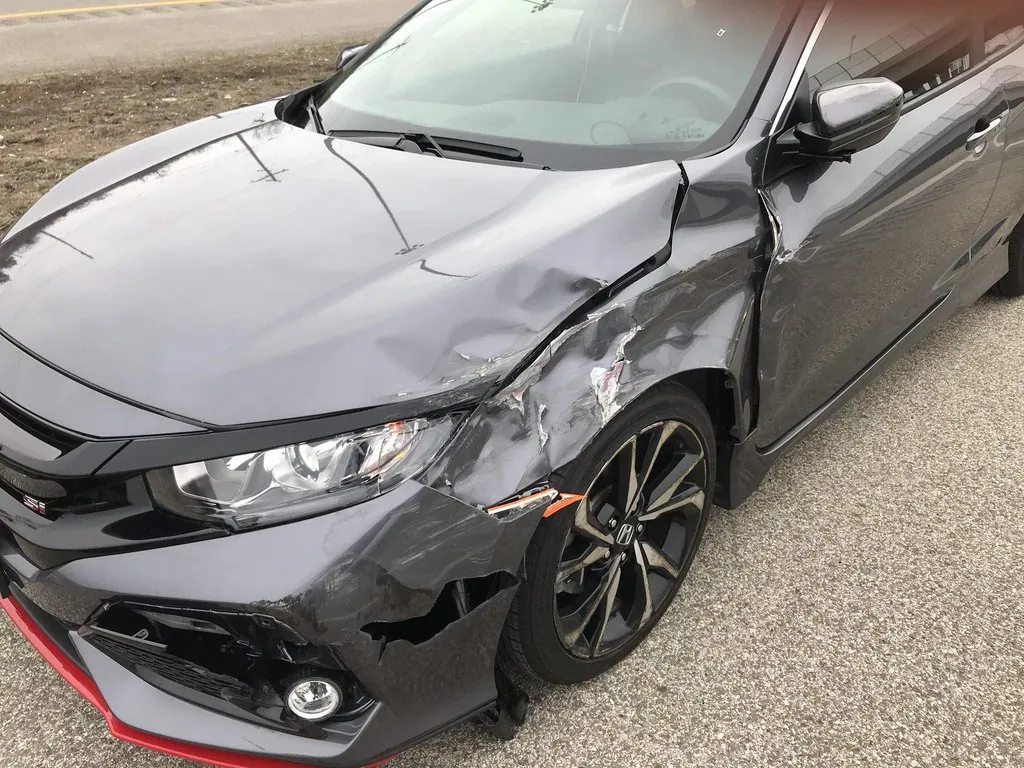fender-dent: (457, 269, 760, 560)
front-bumper-dent: (1, 515, 540, 768)
